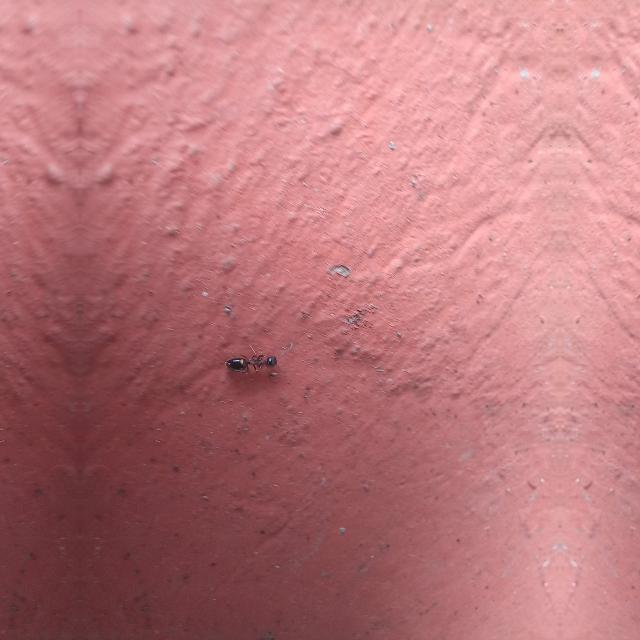Dolichoderus: (219, 338, 285, 380)
